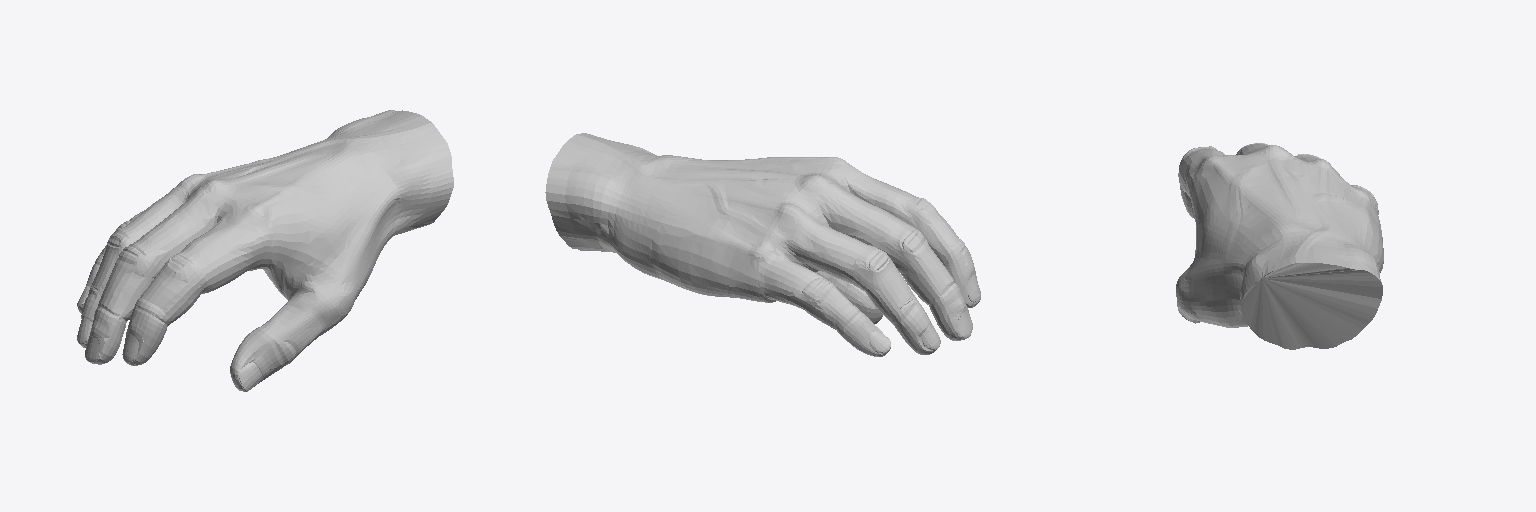
The model's file is hand_03tri.obj.
3 views of the same model, side by side, from view 1: azimuth 30°, elevation 25°; view 2: azimuth 150°, elevation 25°; view 3: azimuth 270°, elevation 25° (orthographic).
Parts seen in each view (by area): view 1: Figure_2.001; view 2: Figure_2.001; view 3: Figure_2.001.
Boxes of the visible parts, <box> form: Figure_2.001: <box>77,110,453,391</box>; Figure_2.001: <box>545,133,980,356</box>; Figure_2.001: <box>1176,143,1383,349</box>.
Bounding box in the file's own units: 0.8124 × 0.37 × 0.3965.